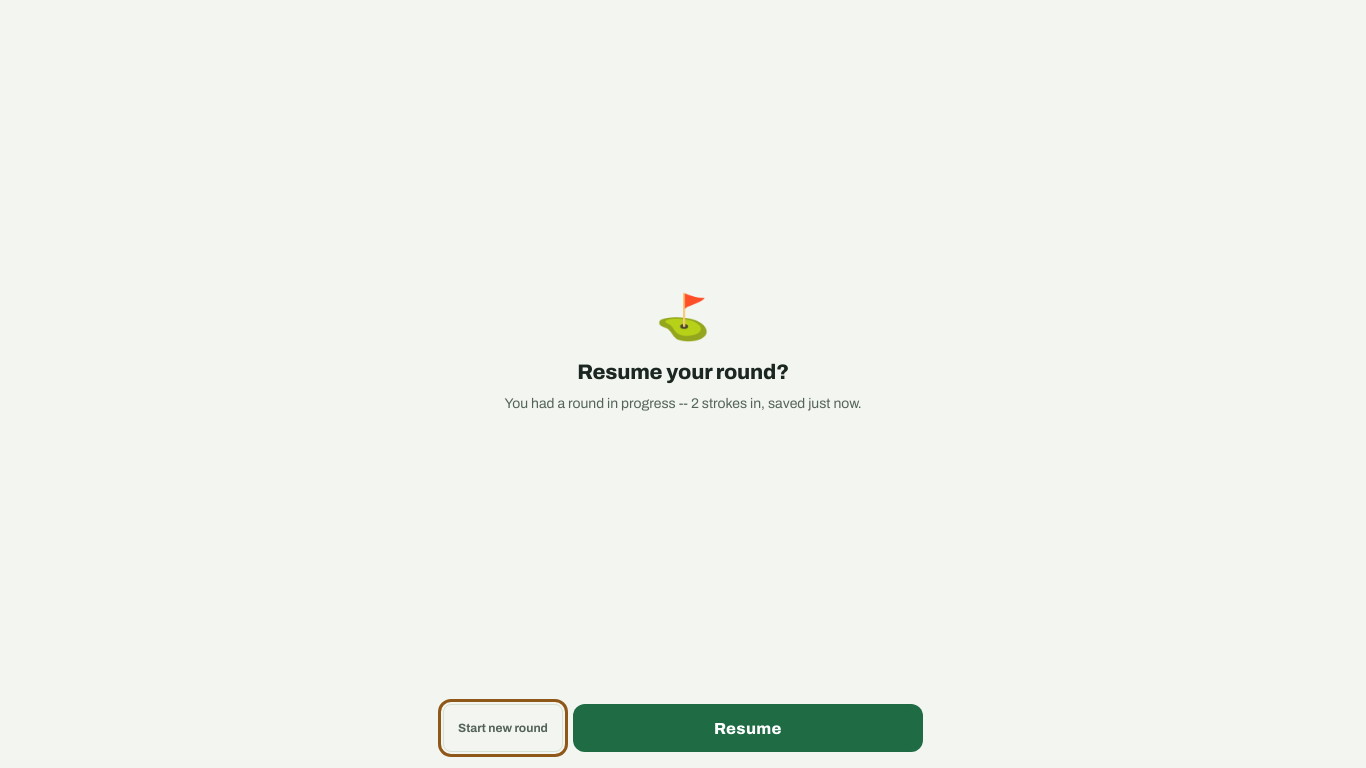
App integration: resume from persisted state › offers to resume a round that was in progress when IndexedDB already has one, and restores it on confirm
The width and height of the screenshot is (1366, 768).
expect the heading "Resume your round?" is shown: met, box [577,360,789,382]
expect the text "You had a round in progress -- 2 strokes in, saved just now." is shown: met, box [504,392,862,414]
Click the button "Resume" at point(748, 728), box [573,704,923,752]
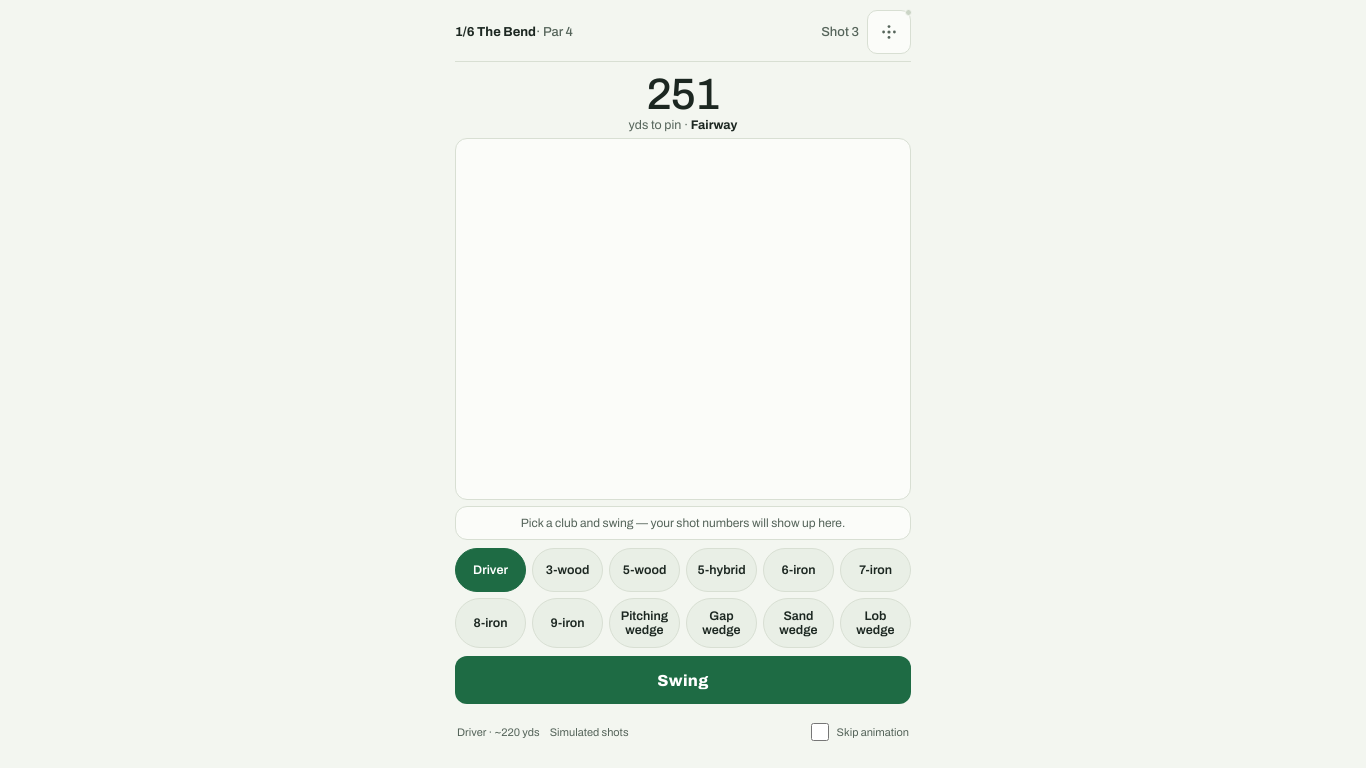
expect the heading "Resume your round" is gone: met
expect the text with class "topbar-dim" reads "Shot 3": met, box [821,25,859,39]
